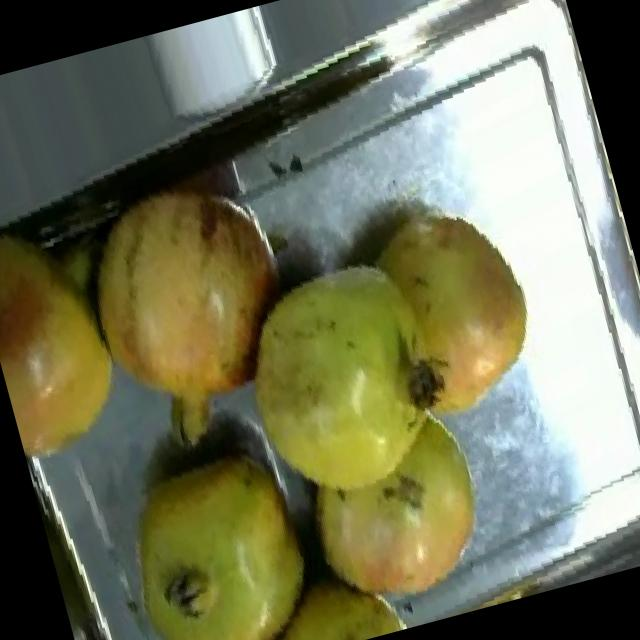fruit: (32, 139, 351, 478), (254, 371, 532, 640), (58, 398, 360, 640), (346, 172, 574, 448)
